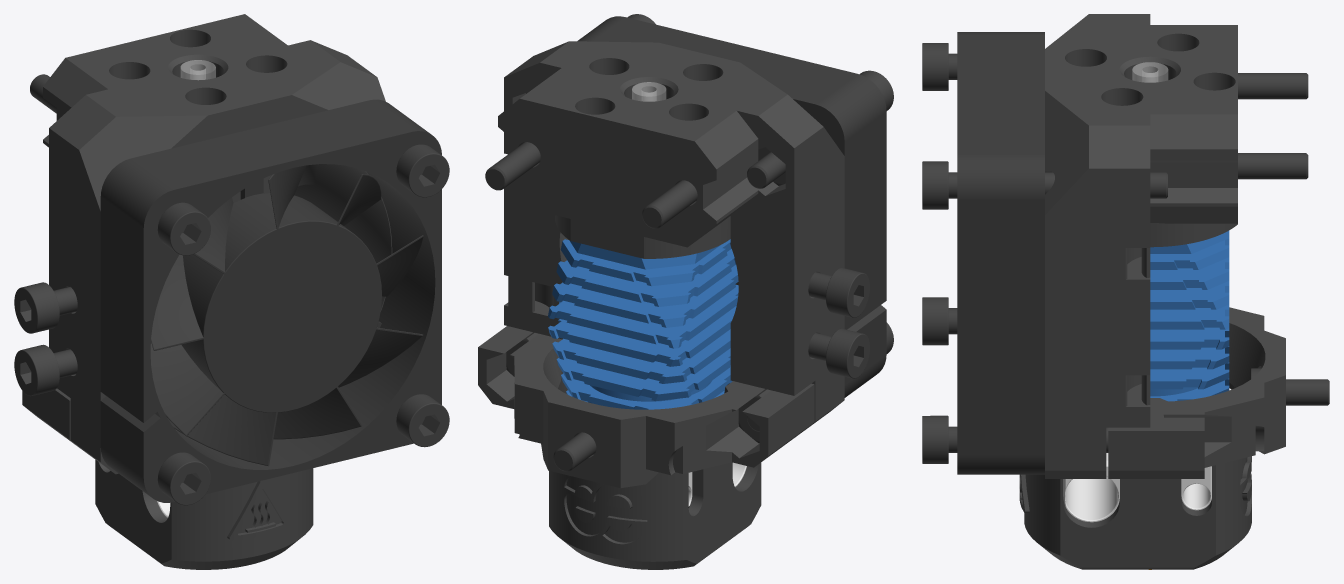
The model's file is DragonFly BMO.dae.
3 views of the same model, side by side, from view 1: azimuth 30°, elevation 25°; view 2: azimuth 150°, elevation 25°; view 3: azimuth 270°, elevation 25° (orthographic). The views are drawn at different scales.
Visible parts, largest first — view 1: 4010 FAN, bmo_face, A189, DIN 912 M3 25 mm (×4), DIN 912 M3 8 mm (×2), bmo_support, PTFE 33.4mm; view 2: bmo_face, A189, bmo_support, 4010 FAN, DIN 912 M3 8 mm (×2), DIN 912 M3 25 mm (×3), DIN 912 M3 6 mm, PTFE 33.4mm; view 3: bmo_face, 4010 FAN, A189, bmo_support, DIN 912 M3 25 mm (×6), DIN 912 M3 6 mm, PTFE 33.4mm.
Boxes of the visible parts, box(x1,y1,x2,y2) form: 4010 FAN: box(100, 99, 441, 502); bmo_face: box(43, 14, 392, 474); A189: box(95, 460, 313, 569); DIN 912 M3 25 mm (×4): box(157, 144, 449, 505); DIN 912 M3 8 mm (×2): box(14, 282, 77, 395); bmo_support: box(22, 388, 83, 450); PTFE 33.4mm: box(180, 60, 215, 80); bmo_face: box(498, 41, 844, 432); A189: box(548, 239, 761, 569); bmo_support: box(478, 326, 814, 488); 4010 FAN: box(568, 16, 886, 397); DIN 912 M3 8 mm (×2): box(808, 268, 869, 378); DIN 912 M3 25 mm (×3): box(485, 70, 893, 228); DIN 912 M3 6 mm: box(553, 432, 596, 471); PTFE 33.4mm: box(632, 82, 666, 101); bmo_face: box(1045, 14, 1237, 478); 4010 FAN: box(957, 32, 1044, 474); A189: box(1019, 230, 1251, 569); bmo_support: box(1108, 307, 1285, 478); DIN 912 M3 25 mm (×6): box(922, 43, 1308, 463); DIN 912 M3 6 mm: box(1250, 368, 1329, 405); PTFE 33.4mm: box(1132, 62, 1168, 82).
Size of the model in its own units: 0.046 by 0.0465 by 0.0627.
